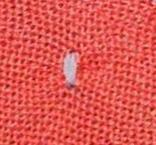hole: (61, 47, 83, 92)
